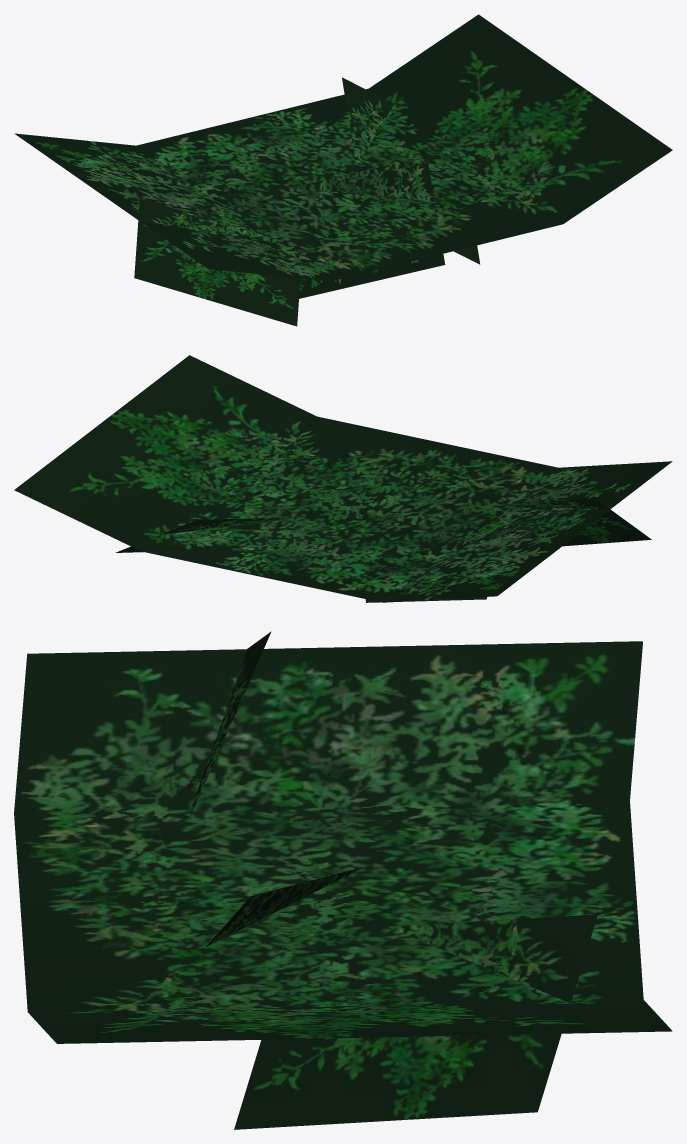
File: jungle_canopy_single.fbx
3 renders of one model, top to bottom at view 1: azimuth 30°, elevation 25°; view 2: azimuth 150°, elevation 25°; view 3: azimuth 270°, elevation 25°, orthographic. The views are drawn at different scales.
Visible parts, largest first — view 1: canopy_5, canopy_6, canopy_11, canopy_10; view 2: canopy_5, canopy_6, canopy_10; view 3: canopy_5, canopy_10, canopy_11, canopy_6.
Part boxes in pixels (left/top/right/bottom): canopy_5: left=14, top=14, right=672, bottom=281; canopy_6: left=134, top=198, right=300, bottom=326; canopy_11: left=293, top=156, right=445, bottom=298; canopy_10: left=342, top=77, right=480, bottom=264; canopy_5: left=14, top=355, right=672, bottom=602; canopy_6: left=501, top=498, right=651, bottom=546; canopy_10: left=115, top=516, right=306, bottom=552; canopy_5: left=14, top=641, right=672, bottom=1043; canopy_10: left=234, top=914, right=597, bottom=1129; canopy_11: left=206, top=867, right=363, bottom=946; canopy_6: left=190, top=631, right=271, bottom=815.
Bounding box in the file's own units: 12177 × 3244 × 8336.
Materials: 1 (1 with a texture image).
